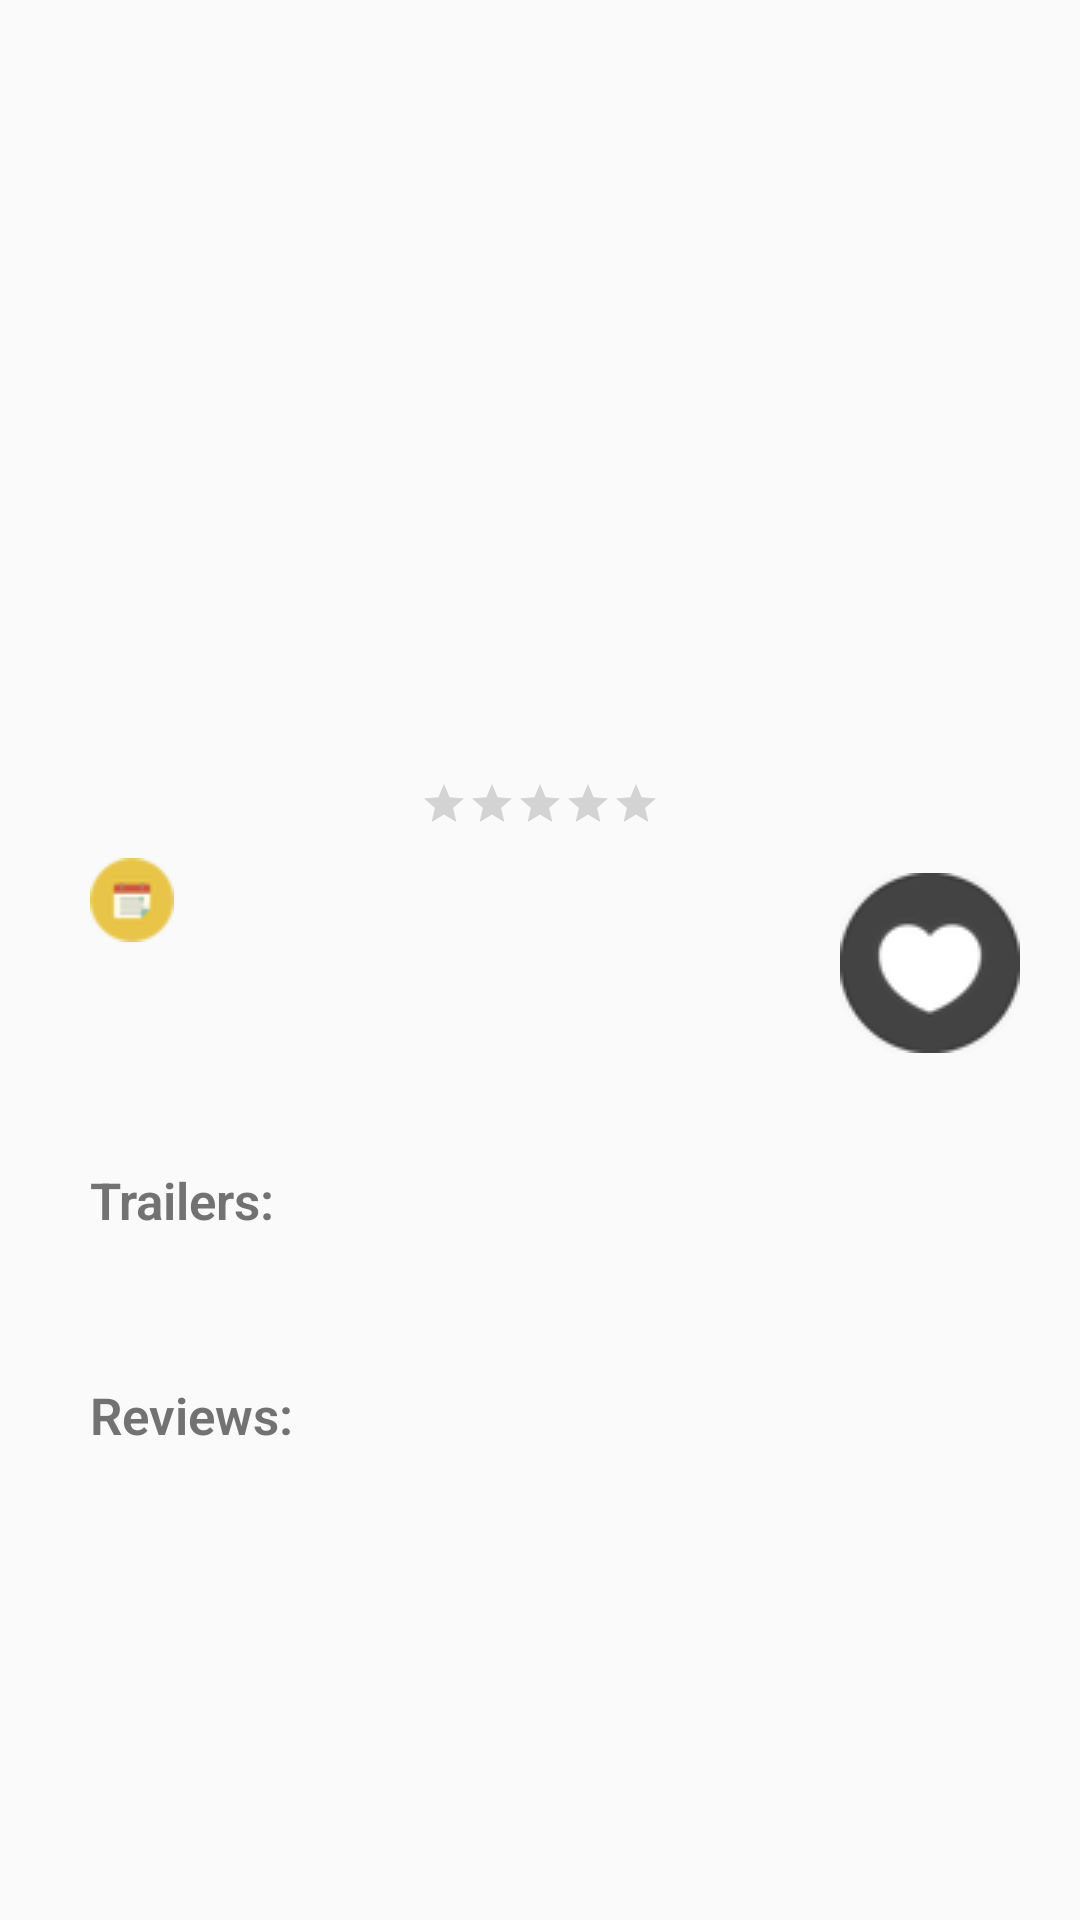

Where to tap for icons on this 1080 × 1920 app screen, as (x=x, y=y):
calendar: (x=132, y=900)
heartgray: (x=930, y=963)
